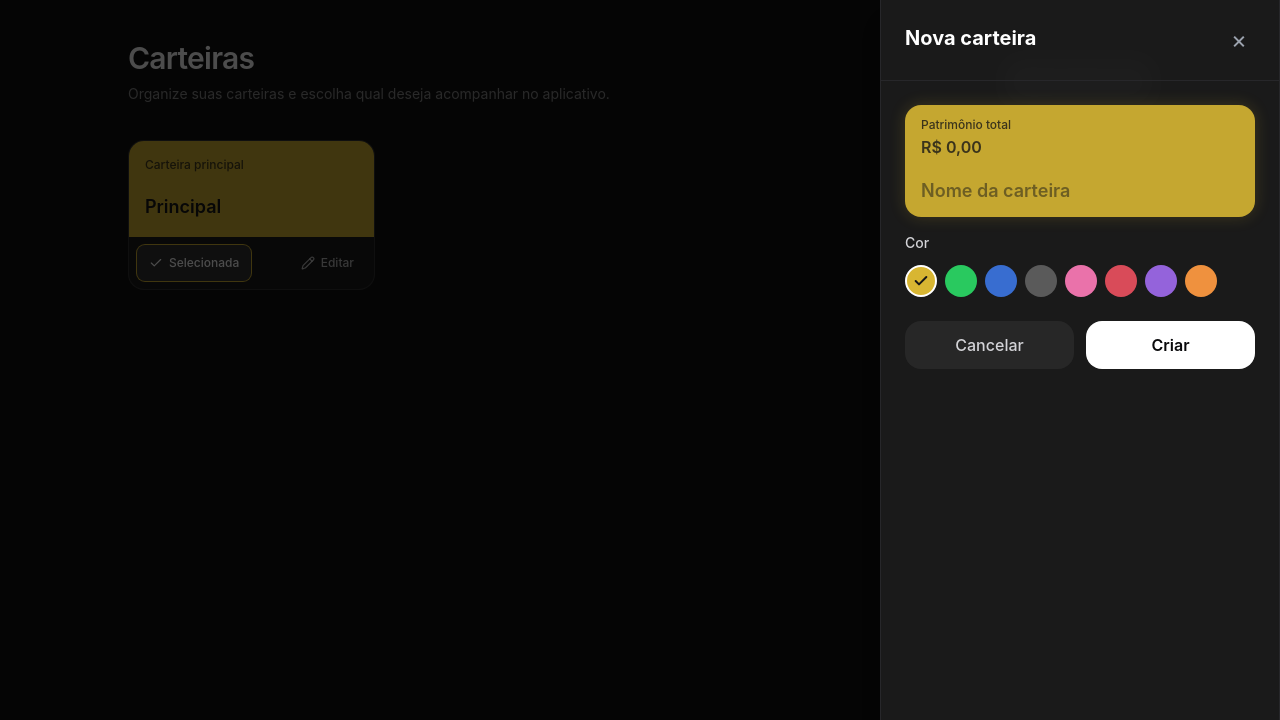
Test case: Gerenciamento de carteiras › abre Nova carteira ao chegar pelo seletor e mantém o modal durante a animação de saída
Click the button named "Fechar" at (1239, 40), box [1223,24,1255,56]
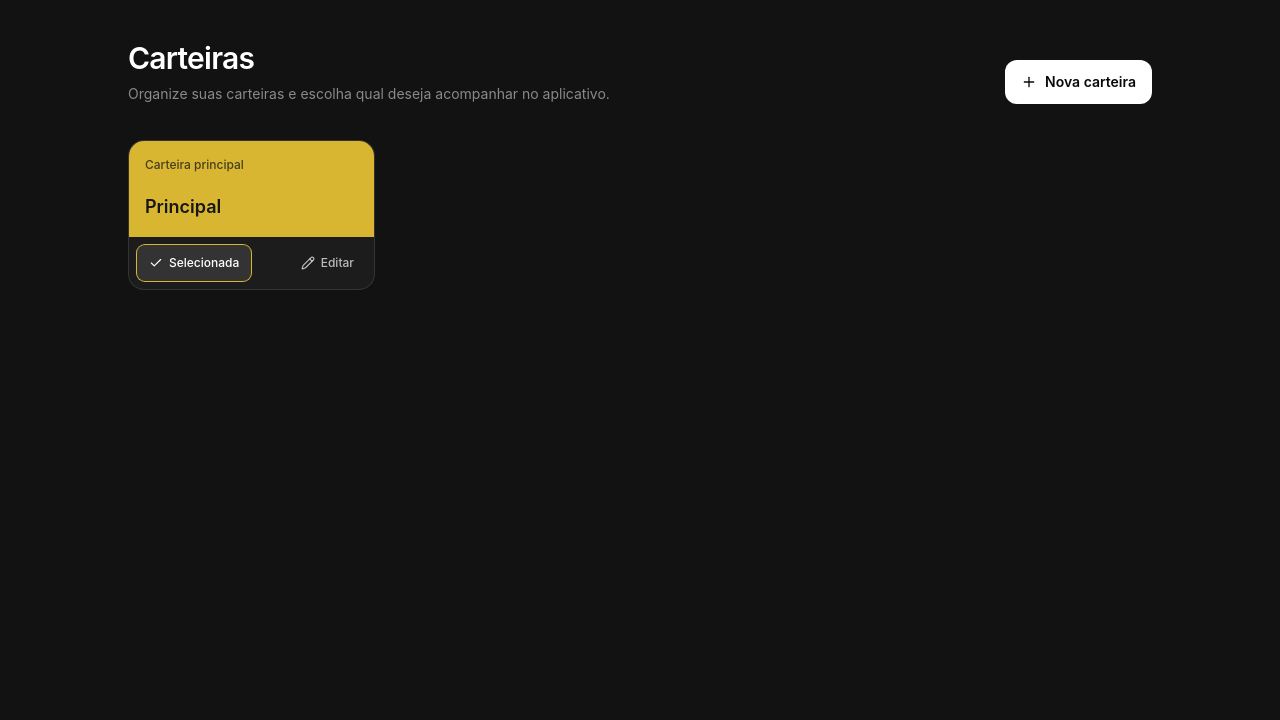
Expected: the dialog is gone
